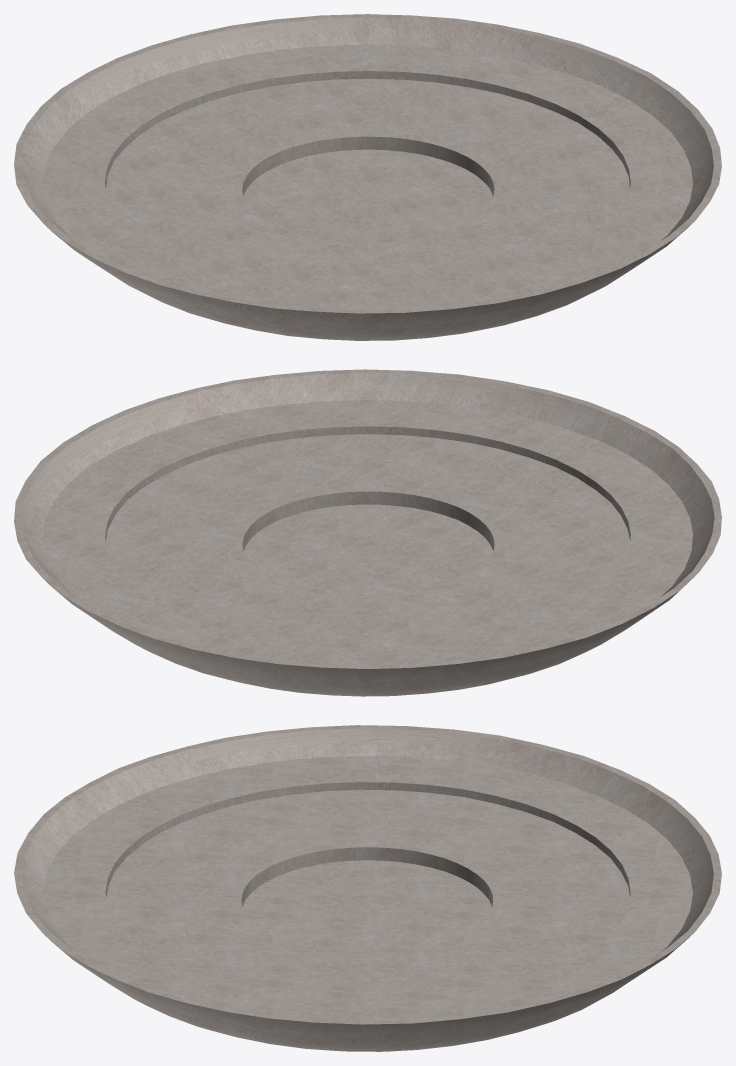
File: SuiteBase2.fbx
The picture shows the model from 3 angles, top to bottom: view 1: azimuth 30°, elevation 25°; view 2: azimuth 150°, elevation 25°; view 3: azimuth 270°, elevation 25°; orthographic projection.
Parts seen in each view (by area): view 1: Floor; view 2: Floor; view 3: Floor.
Boxes of the visible parts, x1,y1,x2,y2 form: Floor: [14, 14, 721, 340]; Floor: [14, 369, 721, 696]; Floor: [14, 725, 721, 1051].
Size of the model in its own units: 32398 by 6175 by 32375.
